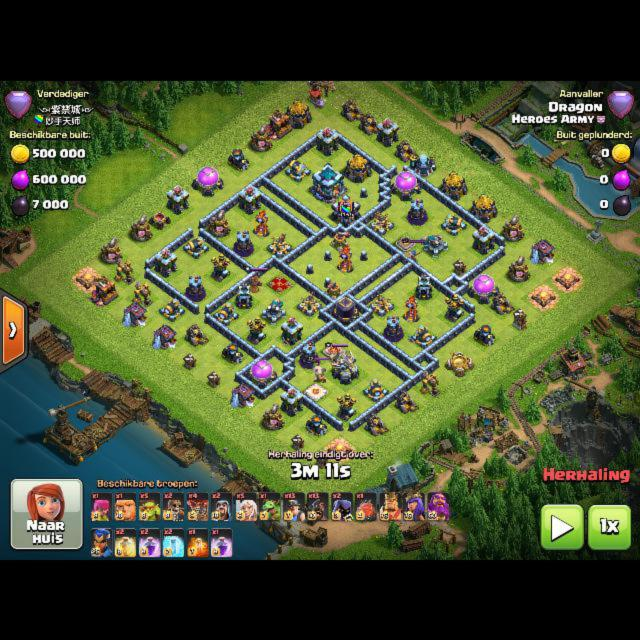AD: (444, 292, 464, 322), (246, 315, 266, 344), (336, 392, 356, 421), (211, 252, 230, 282)
AirSweeper: (330, 231, 350, 252), (324, 280, 343, 300)
BombTower: (416, 273, 432, 300), (236, 281, 252, 308)
Canon: (362, 377, 389, 401), (410, 323, 436, 347), (212, 301, 238, 325), (158, 298, 185, 321), (284, 159, 310, 182), (440, 213, 466, 236), (182, 235, 208, 258)
ClanCastle: (332, 193, 361, 226)
Eagle: (332, 349, 359, 384)
Inferno: (337, 245, 353, 272), (253, 210, 269, 236), (403, 295, 419, 321)
KingPad: (322, 341, 346, 359)
Mortar: (473, 324, 496, 347), (227, 148, 250, 171), (221, 342, 244, 364), (305, 414, 328, 436)
QueenPad: (268, 274, 293, 292)
RcPad: (396, 235, 415, 250)
Scattershot: (261, 297, 286, 324), (420, 234, 448, 257)
TH13: (312, 162, 345, 203)
WardenPad: (305, 383, 327, 400)
WizzTower: (383, 315, 403, 342), (299, 342, 319, 369), (407, 198, 427, 225), (233, 229, 253, 256), (185, 274, 205, 301)
Xbow: (266, 232, 292, 257), (296, 291, 322, 316), (368, 210, 394, 234), (368, 293, 394, 315)
